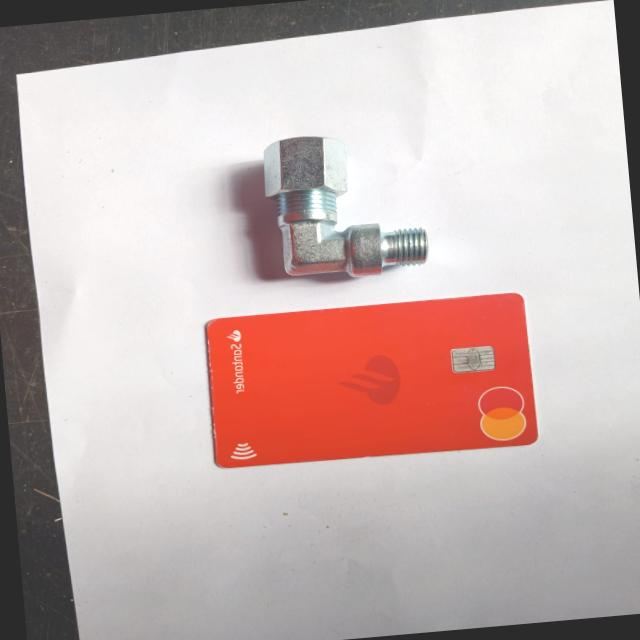cartao: (204, 292, 536, 469)
rosca_externa: (259, 127, 429, 284)
